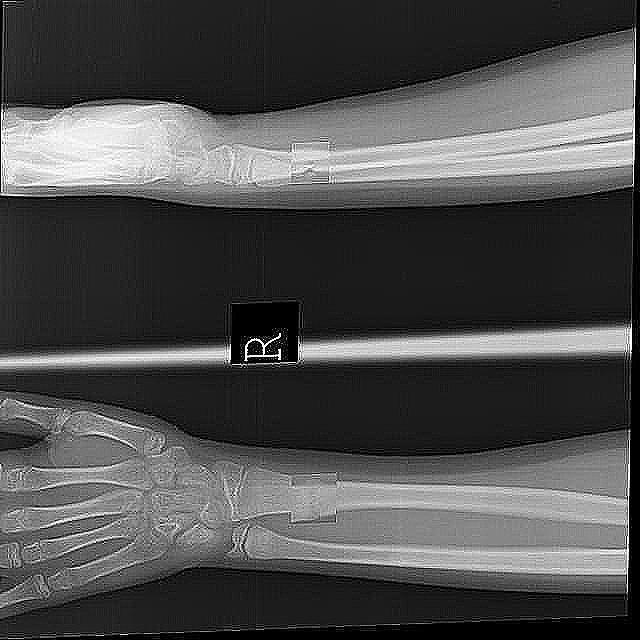bone: (292, 475, 338, 525), (292, 143, 330, 184)
